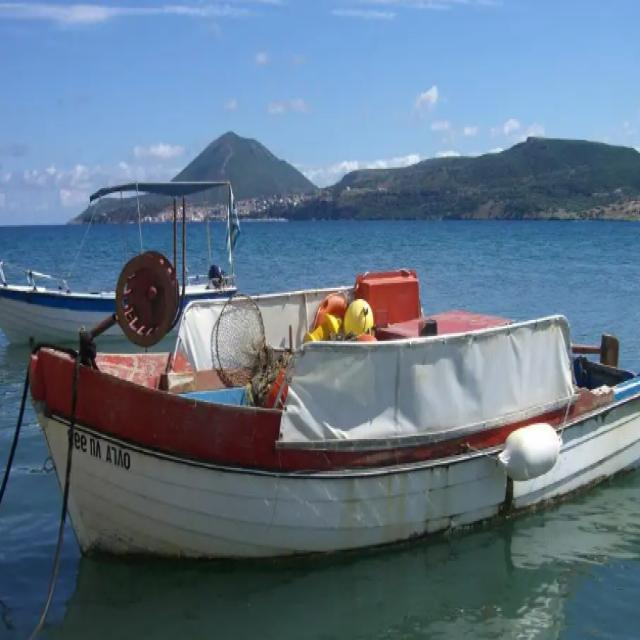fishing boat: (38, 282, 640, 562), (0, 165, 245, 331)
